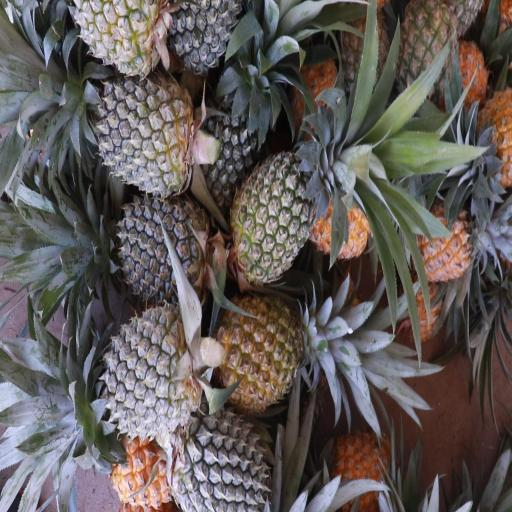------------------------------: (234, 155, 334, 279), (216, 292, 308, 405), (76, 0, 170, 80), (395, 0, 459, 104)
Pineapple - v8 v1: (312, 166, 372, 260), (417, 200, 478, 286)
